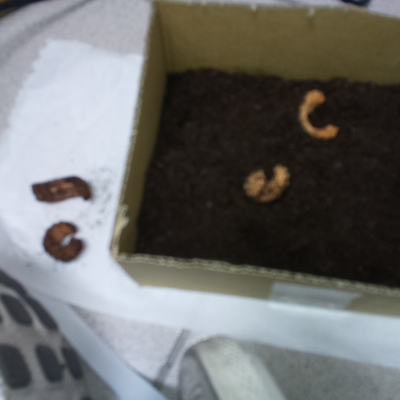eggs: (293, 83, 340, 143), (240, 160, 294, 208)
